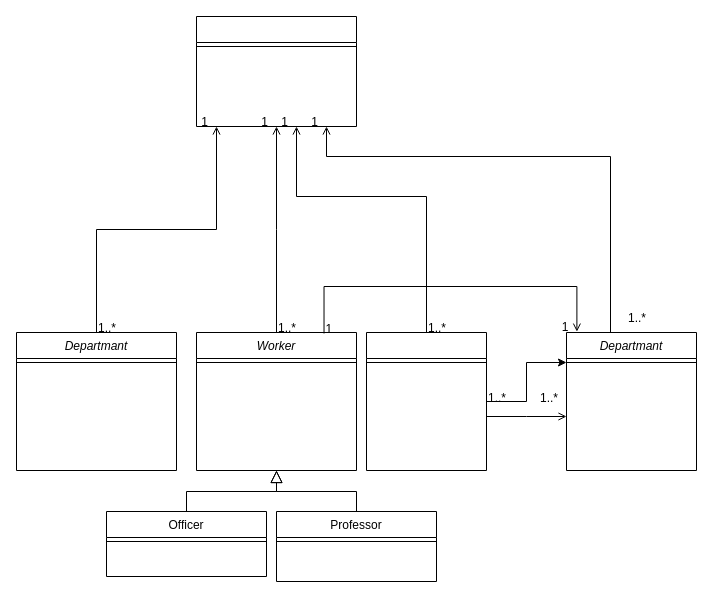
The diagram is 713 pixels wide and 598 high, and some of its shapes have lost their labels. The shapes that lost their labels are listed below. From the top down, each one's centre as x and y in pixels, then its label:
(276,71): University
(426,401): Work Office
